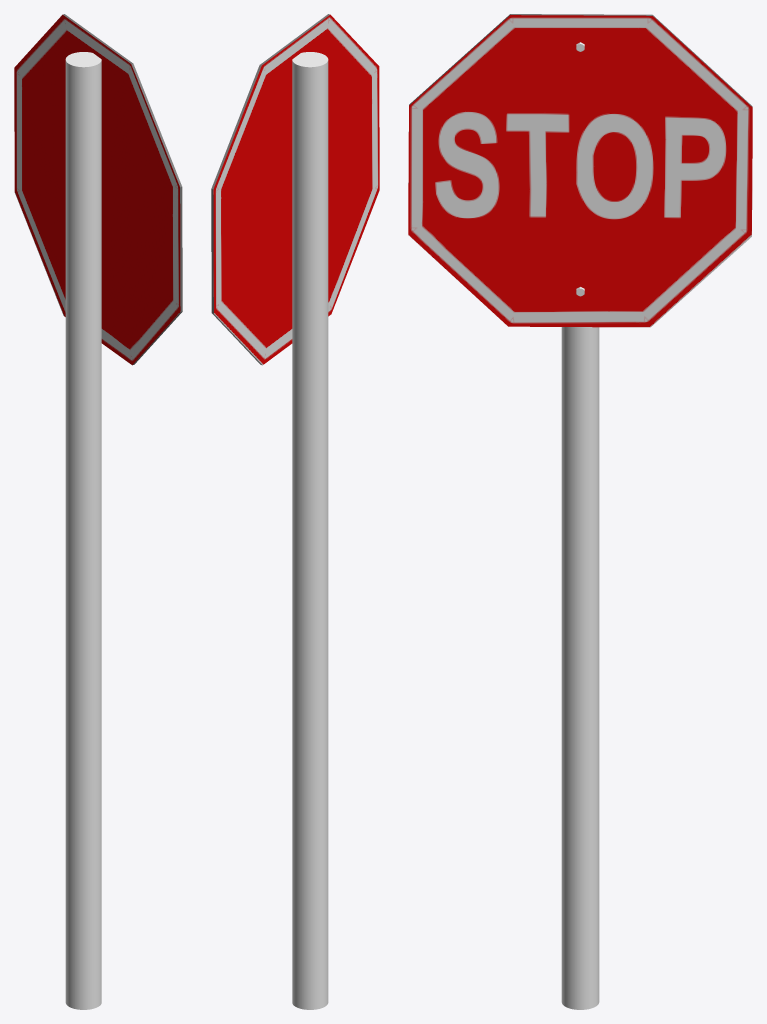
Rendered from stop.obj.
The picture shows the model from 3 angles, left to right: view 1: azimuth 30°, elevation 25°; view 2: azimuth 150°, elevation 25°; view 3: azimuth 270°, elevation 25°; orthographic projection. The views are drawn at different scales.
Parts seen in each view (by area): view 1: Bolt.001; view 2: Bolt.001; view 3: Bolt.001.
Part boxes in pixels (box(x1,y1,x2,y2)): Bolt.001: box(14, 14, 182, 1009); Bolt.001: box(211, 14, 379, 1009); Bolt.001: box(408, 14, 752, 1009).
Bounding box in the file's own units: 0.2202 × 5.9 × 1.85.
1 material, 1 textured.
